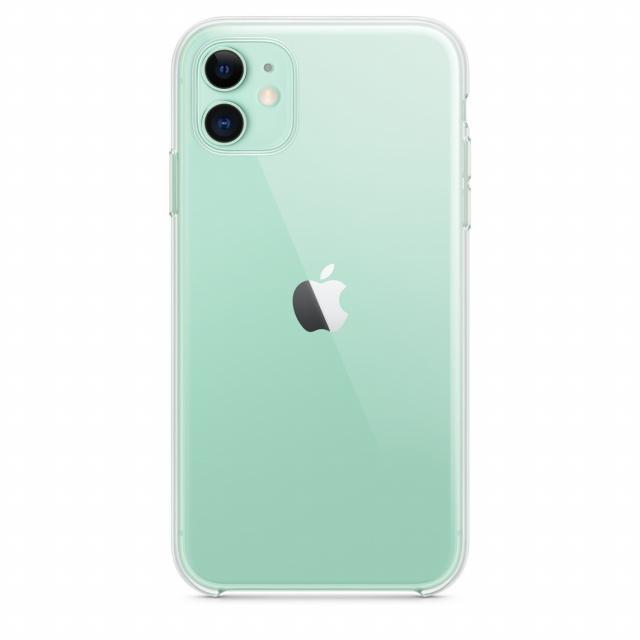phone: (167, 13, 476, 599)
